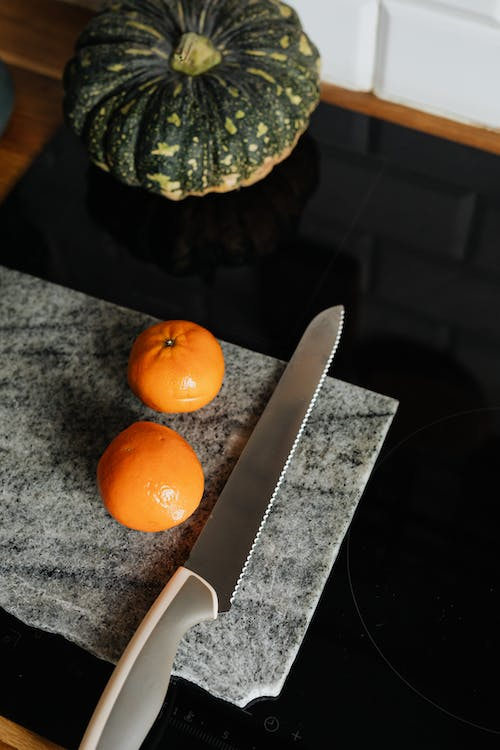knife: (73, 300, 348, 750)
